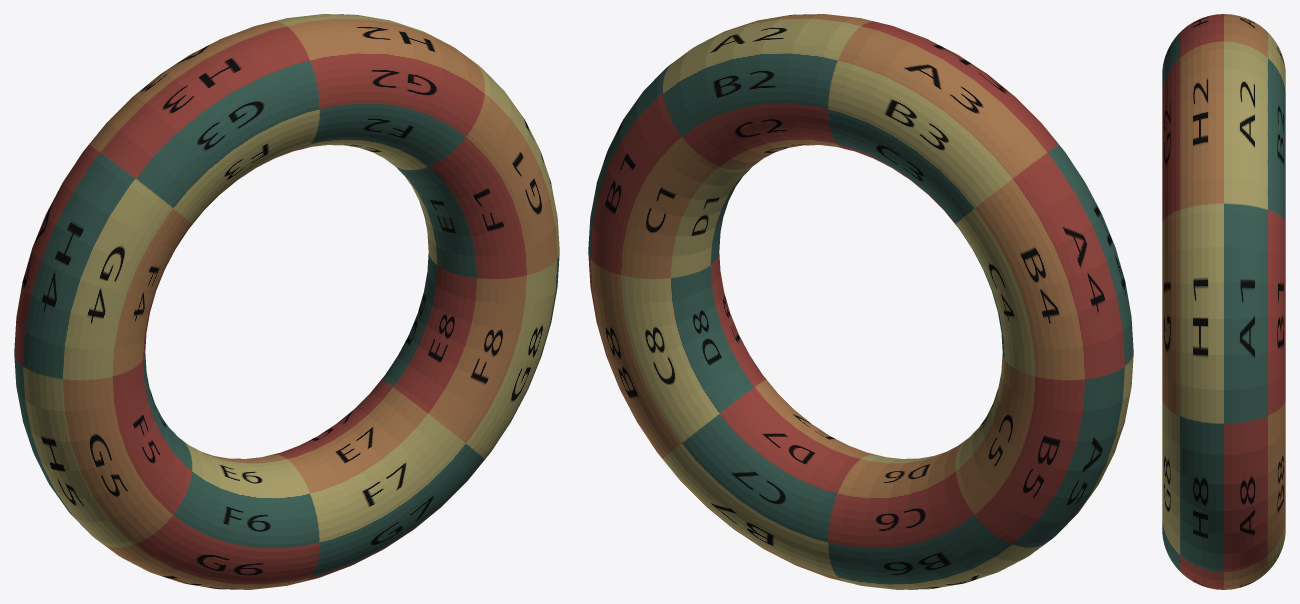
Rendered from texture_torus_R12_r11.glb.
3 views of the same model, side by side, from view 1: azimuth 30°, elevation 25°; view 2: azimuth 150°, elevation 25°; view 3: azimuth 270°, elevation 25° (orthographic). The views are drawn at different scales.
Visible parts, largest first — view 1: world; view 2: world; view 3: world.
Boxes of the visible parts, x1,y1,x2,y2 form: world: [14, 14, 559, 589]; world: [588, 14, 1133, 589]; world: [1162, 14, 1285, 589].
Bounding box in the file's own units: 22.93 × 22.89 × 4.92.
Materials: 1 (1 with a texture image).
